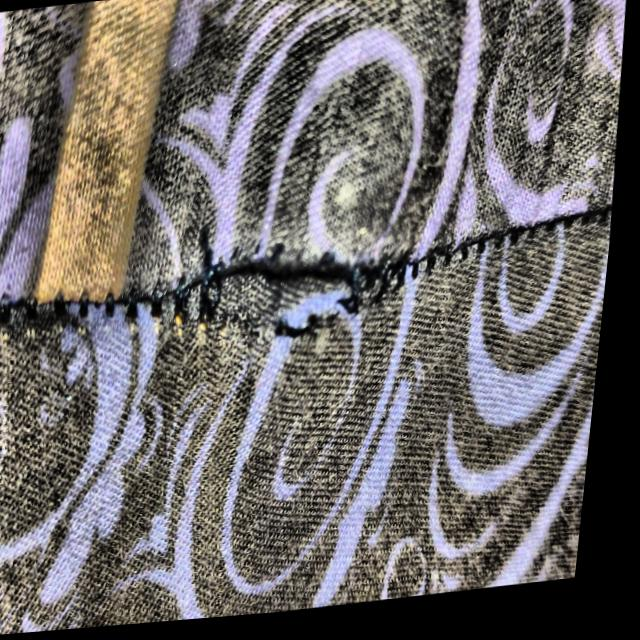seam: (145, 169, 447, 414)
